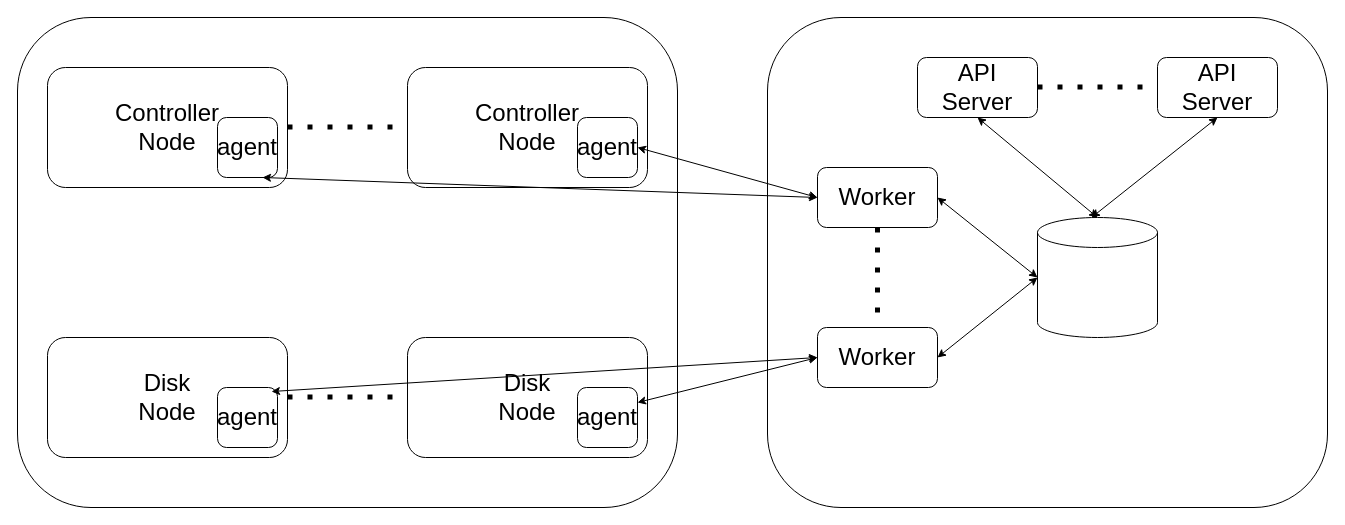
The diagram is 1345 pixels wide and 525 high, and some of its shapes have lost their labels. The shapes that lost their labels are listed below. From the top down, each one's box as (x1, y1, x2, y2) in pixels, then its label:
(16, 16, 678, 508): data plane
(766, 16, 1328, 508): control plane
(1036, 216, 1158, 338): etcd
